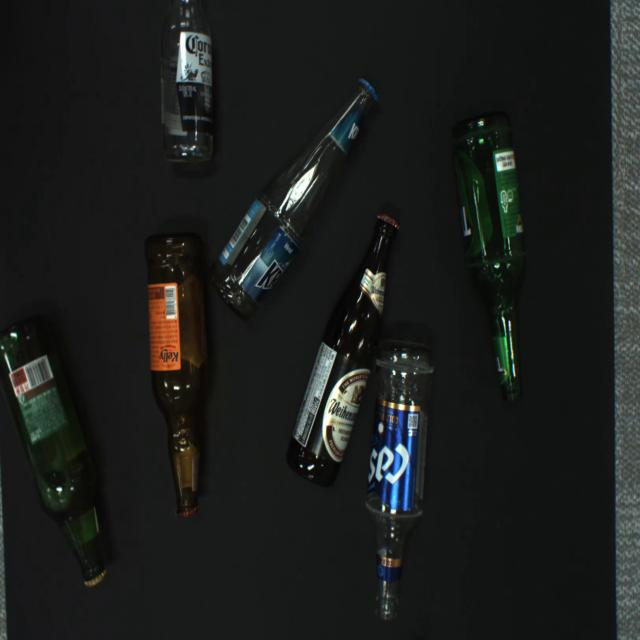beer-bottle: (205, 78, 378, 324), (286, 213, 401, 487), (0, 315, 107, 589), (451, 112, 527, 403), (364, 339, 436, 622), (144, 231, 209, 518), (160, 0, 213, 164)
